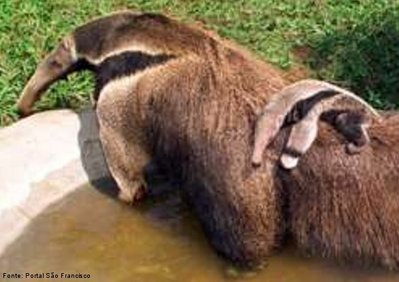TamanduaBandeira: (11, 10, 395, 267), (248, 77, 384, 175)
